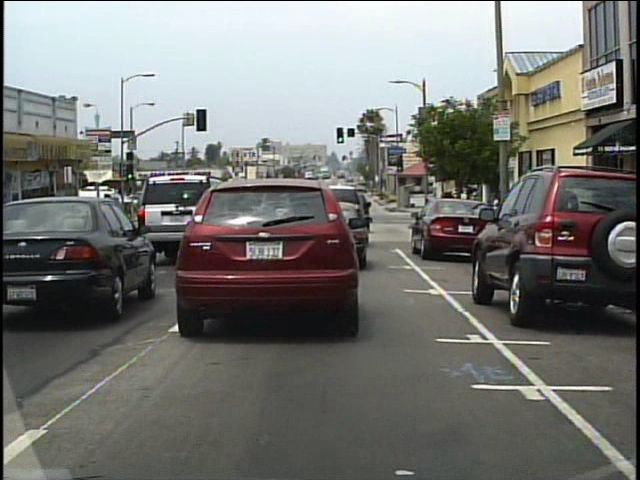person: (456, 192, 469, 232), (467, 189, 481, 222), (446, 193, 457, 233)
